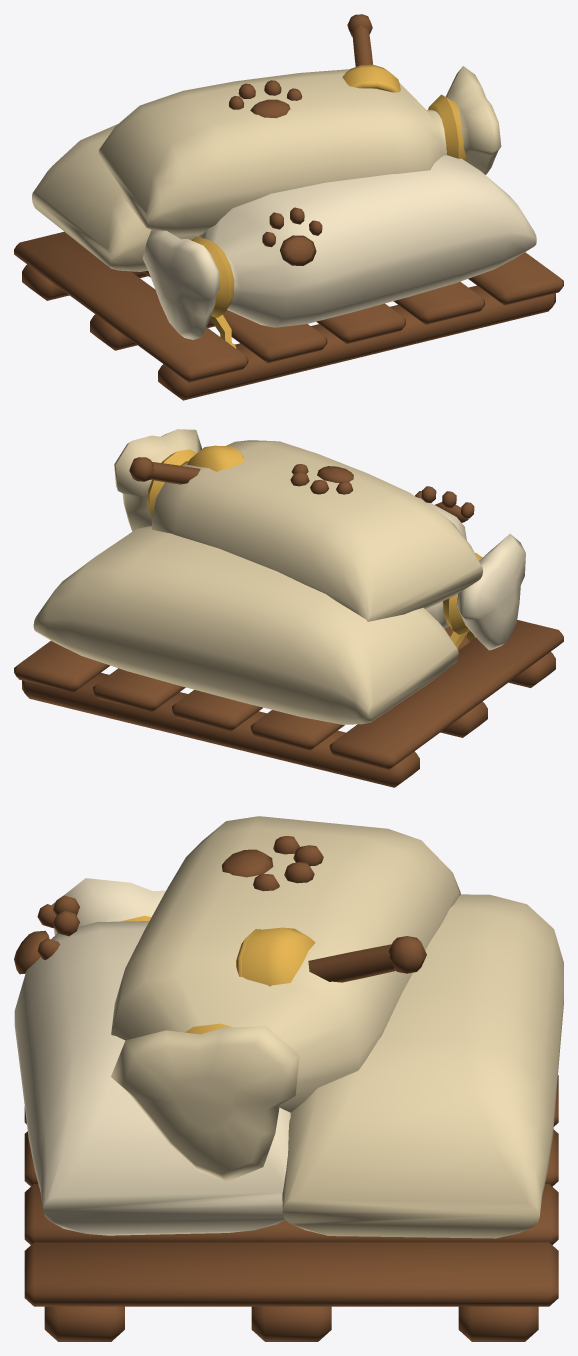
The model's file is ShopSackPile.fbx.
3 renders of one model, top to bottom at view 1: azimuth 30°, elevation 25°; view 2: azimuth 150°, elevation 25°; view 3: azimuth 270°, elevation 25°, orthographic. The views are drawn at different scales.
Parts seen in each view (by area): view 1: ShopSackPile; view 2: ShopSackPile; view 3: ShopSackPile.
Part boxes in pixels (bbox=[...]): ShopSackPile: bbox=[14, 14, 563, 400]; ShopSackPile: bbox=[14, 429, 563, 787]; ShopSackPile: bbox=[14, 816, 563, 1341].
Bounding box in the file's own units: 1 × 0.5797 × 0.8241.
